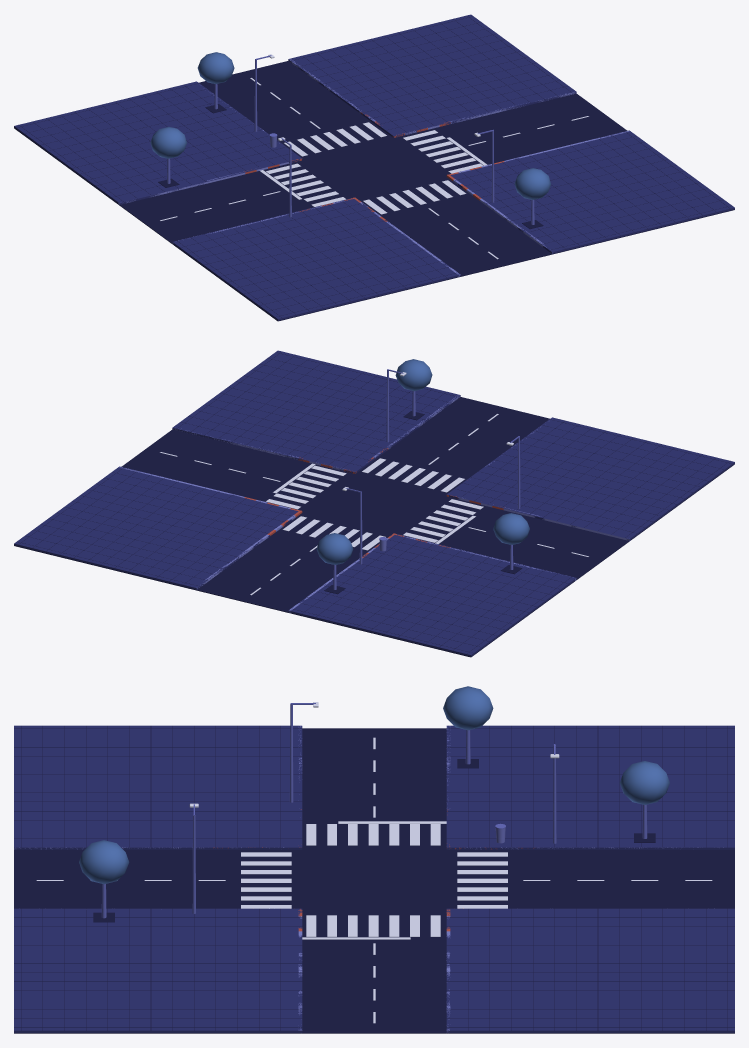
Rendered from streetCorner.glb.
The picture shows the model from 3 angles, top to bottom: view 1: azimuth 30°, elevation 25°; view 2: azimuth 150°, elevation 25°; view 3: azimuth 270°, elevation 25°; orthographic projection. The views are drawn at different scales.
Parts seen in each view (by area): view 1: asphalt, walk_EN, walk_WS, walk_WN, walk_ES, tree (×3), crossingE, crossingW, crossingS, crossingN; view 2: asphalt, walk_EN, walk_WS, walk_WN, walk_ES, tree (×3), crossingW, crossingE, crossingS, crossingN; view 3: asphalt, walk_EN, walk_ES, walk_WS, walk_WN, tree (×3), crossingN, crossingS, crossingW, crossingE.
Part boxes in pixels (x1,y1,x2,y2): asphalt: (14, 61, 734, 321); walk_EN: (288, 14, 576, 137); walk_WS: (172, 197, 460, 320); walk_WN: (14, 81, 302, 204); walk_ES: (450, 130, 734, 253); tree (×3): (150, 52, 551, 229); crossingE: (403, 130, 483, 173); crossingW: (266, 163, 345, 206); crossingS: (363, 180, 466, 214); crossingN: (284, 122, 386, 156); asphalt: (14, 397, 734, 657); walk_EN: (14, 466, 298, 589); walk_WS: (447, 417, 734, 540); walk_WN: (288, 534, 576, 656); walk_ES: (172, 350, 460, 473); tree (×3): (316, 359, 529, 594); crossingW: (403, 499, 483, 542); crossingE: (266, 465, 346, 509); crossingS: (362, 458, 464, 492); crossingN: (282, 516, 385, 550); asphalt: (14, 728, 734, 1033); walk_EN: (446, 908, 734, 1032); walk_ES: (14, 908, 302, 1032); walk_WS: (14, 725, 302, 849); walk_WN: (446, 725, 734, 849); tree (×3): (79, 686, 669, 922); crossingN: (457, 852, 507, 908); crossingS: (241, 852, 291, 908); crossingW: (306, 824, 440, 845); crossingE: (306, 915, 440, 936).
Bounding box in the file's own units: 40 × 6.24 × 40.
